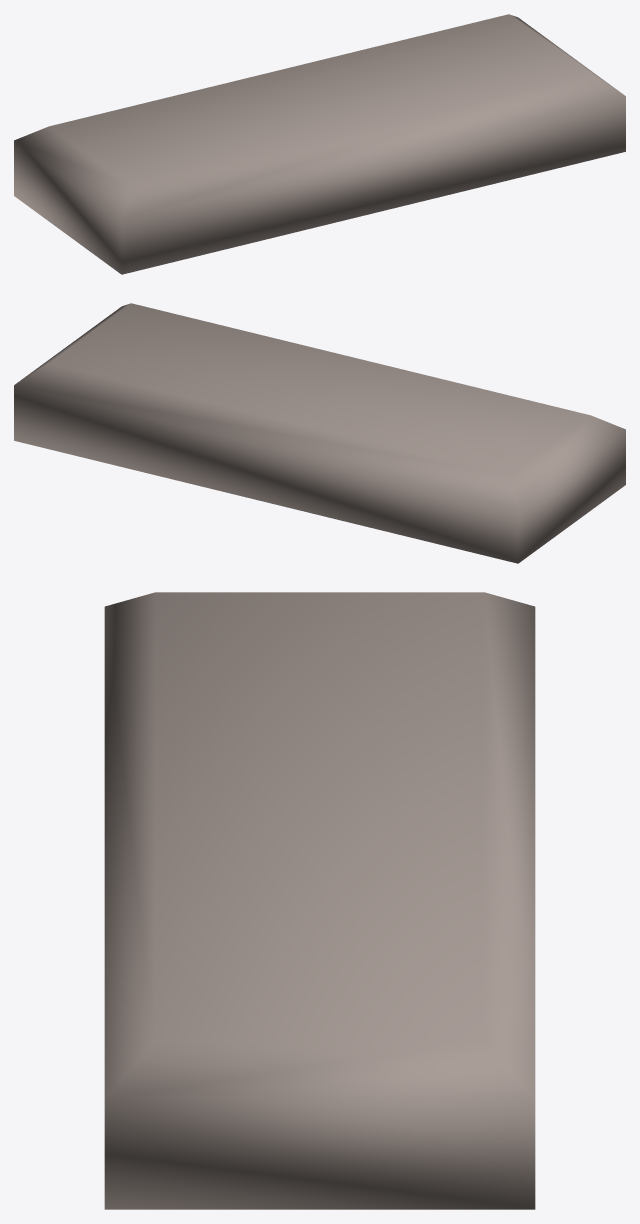
The model's file is InishmoreFlatRock_2width_Var5.fbx.
3 renders of one model, top to bottom at view 1: azimuth 30°, elevation 25°; view 2: azimuth 150°, elevation 25°; view 3: azimuth 270°, elevation 25°, orthographic. The views are drawn at different scales.
Visible parts, largest first — view 1: InishmoreFlatRock.009; view 2: InishmoreFlatRock.009; view 3: InishmoreFlatRock.009.
Boxes of the visible parts, <box> form: InishmoreFlatRock.009: <box>14,14,625,274</box>; InishmoreFlatRock.009: <box>14,303,625,563</box>; InishmoreFlatRock.009: <box>104,592,535,1209</box>.
Bounding box in the file's own units: 212 × 29.45 × 78.3.
